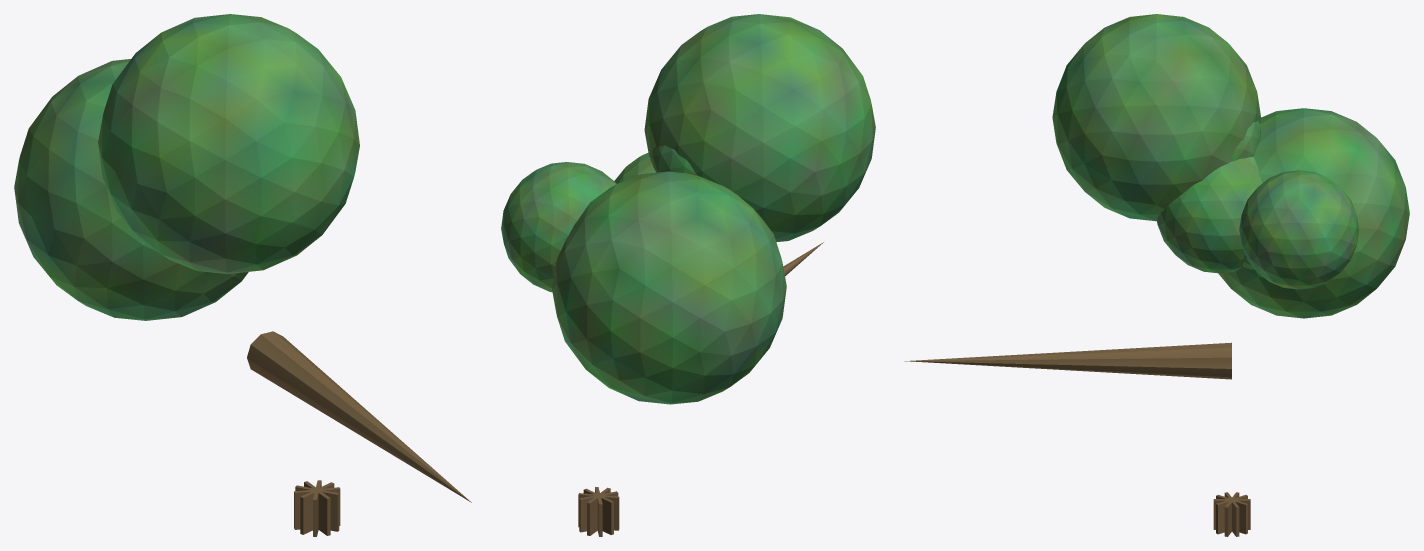
The model's file is tree_1.glb.
3 renders of one model, left to right at view 1: azimuth 30°, elevation 25°; view 2: azimuth 150°, elevation 25°; view 3: azimuth 270°, elevation 25°, orthographic. The views are drawn at different scales.
Visible parts, largest first — view 1: world; view 2: world; view 3: world.
Boxes of the visible parts, <box> form: world: <box>14,14,471,536</box>; world: <box>501,14,875,536</box>; world: <box>904,14,1409,536</box>.
Size of the model in its own units: 5.21 by 9.23 by 9.33.
